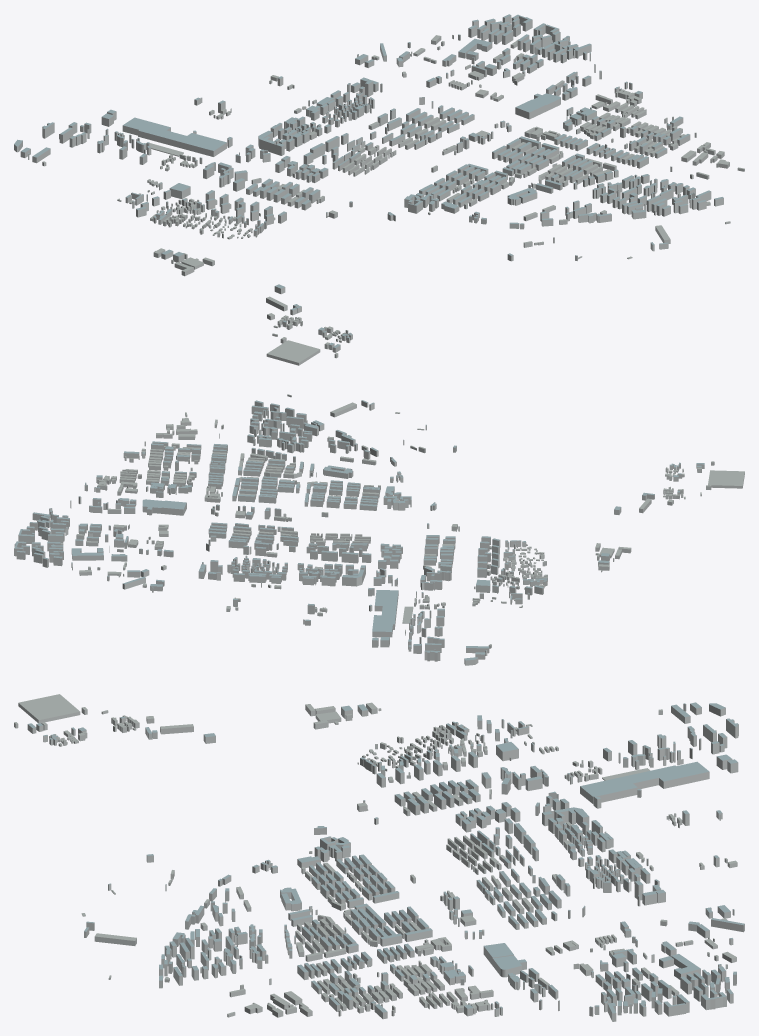
File: far.glb
3 views of the same model, one above another, from view 1: azimuth 30°, elevation 25°; view 2: azimuth 150°, elevation 25°; view 3: azimuth 270°, elevation 25° (orthographic). The views are drawn at different scales.
Bounding box in the file's own units: 2214 × 49.25 × 2108.
